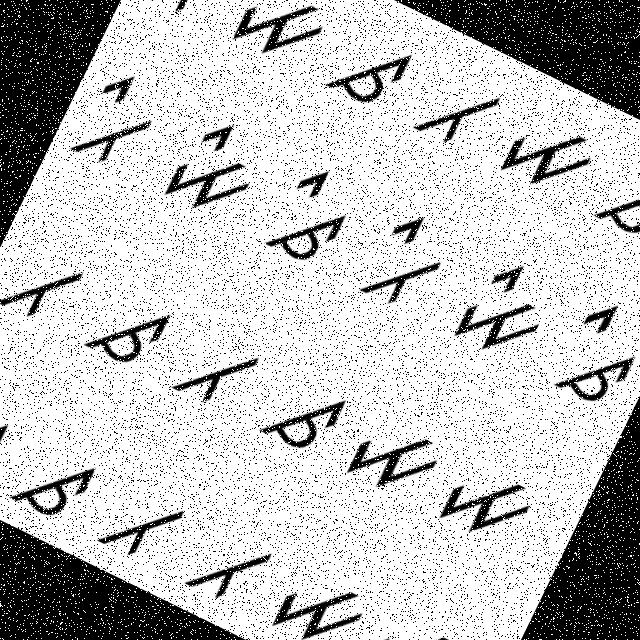ba: (85, 470, 193, 580), (172, 516, 276, 624), (408, 62, 512, 168), (166, 321, 264, 423), (0, 230, 91, 339), (133, 0, 242, 39)
bi: (350, 202, 467, 332), (62, 57, 174, 182)
ca: (248, 361, 358, 472), (313, 16, 422, 120), (1, 431, 103, 533), (78, 280, 178, 382), (585, 146, 639, 253)
ci: (254, 156, 372, 285), (541, 288, 639, 421)
ma: (486, 94, 612, 214), (430, 440, 550, 558), (336, 401, 454, 515), (260, 549, 379, 639), (220, 0, 338, 79), (356, 603, 471, 639)
mi: (438, 241, 568, 378), (152, 101, 278, 232)
